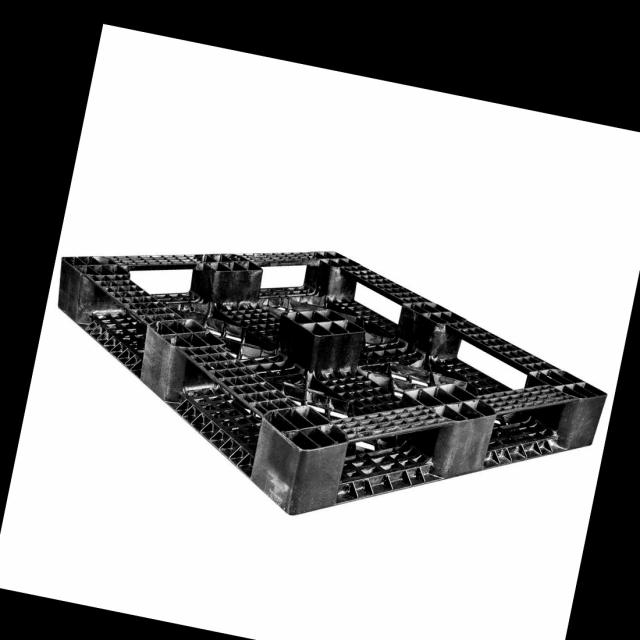non-igps: (54, 242, 611, 519)
